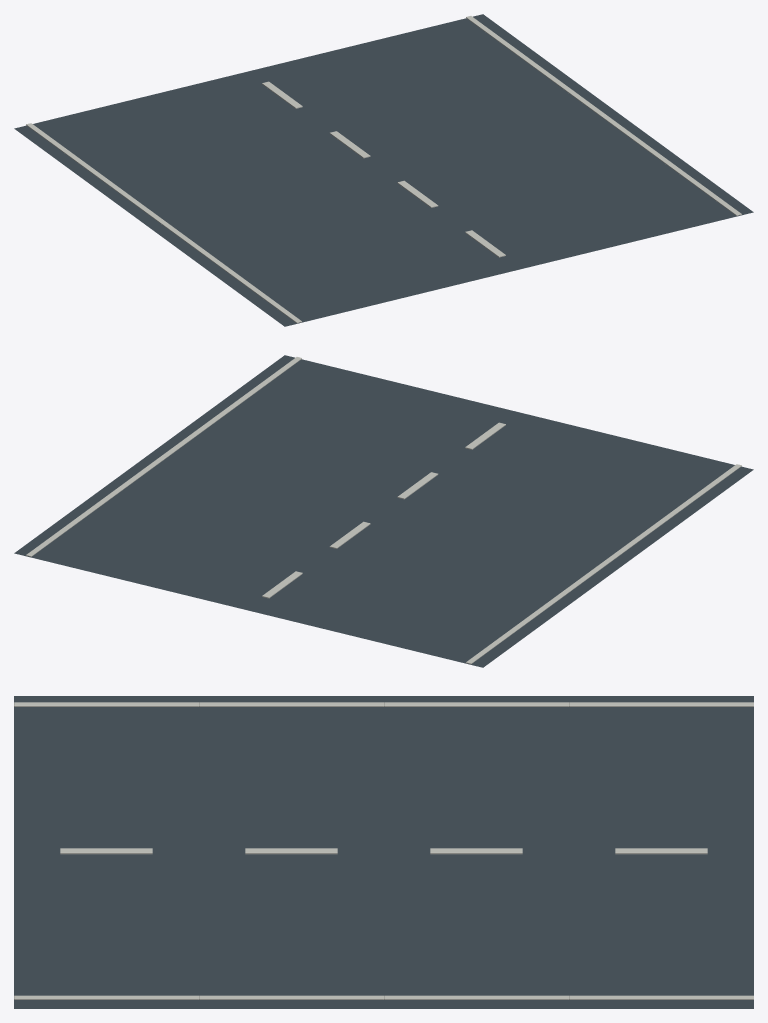
The model's file is landscape-road-straight.lod0.glb.
3 renders of one model, top to bottom at view 1: azimuth 30°, elevation 25°; view 2: azimuth 150°, elevation 25°; view 3: azimuth 270°, elevation 25°, orthographic. The views are drawn at different scales.
Visible parts, largest first — view 1: landscape-road-straight__body; view 2: landscape-road-straight__body; view 3: landscape-road-straight__body.
Part boxes in pixels (x1,y1,x2,y2): landscape-road-straight__body: (14,14,753,326); landscape-road-straight__body: (14,355,753,667); landscape-road-straight__body: (14,696,753,1008).
Bounding box in the file's own units: 8 × 0.024 × 8.
